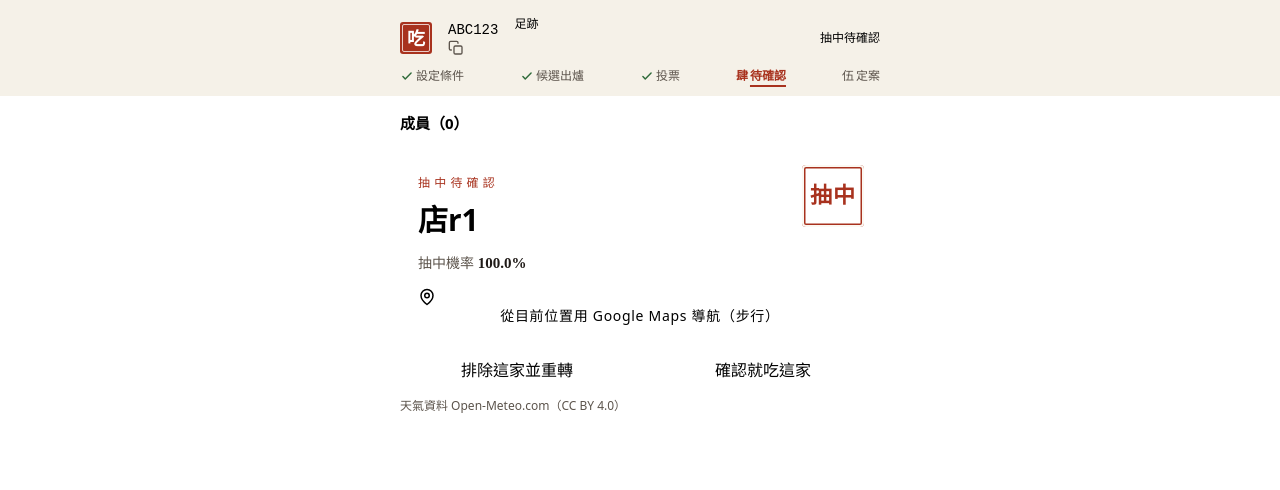
it: RoomPage 抽選與待確認 › 確認就吃這家 送出時同步拋錯也顯示無法連線、不 refetch 並解除 busy
Step 1. Click the button "確認就吃這家" → [763, 370], box [646, 358, 880, 382]
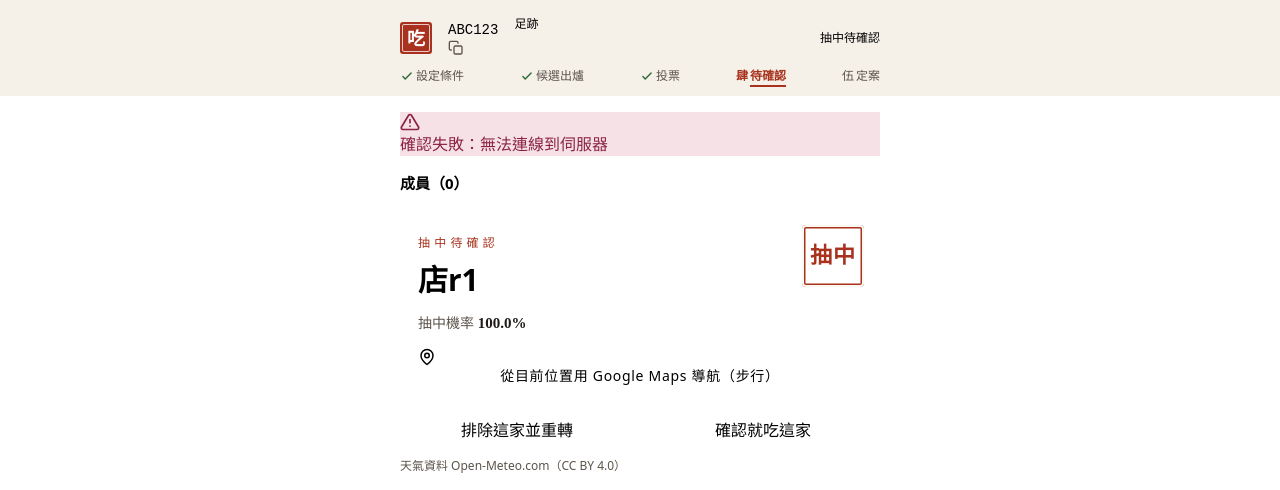
Expected: the button "確認就吃這家" is enabled, [646, 418, 880, 442]
Expected: the text "確認失敗：無法連線到伺服器" is shown, [400, 133, 608, 155]
